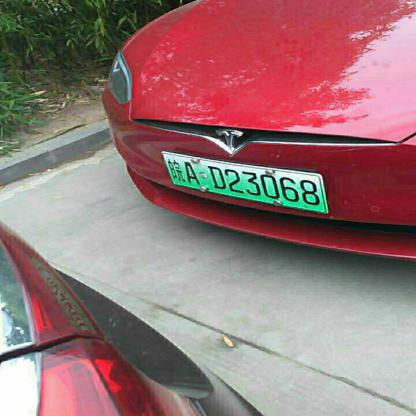lp: (160, 153, 328, 213)
